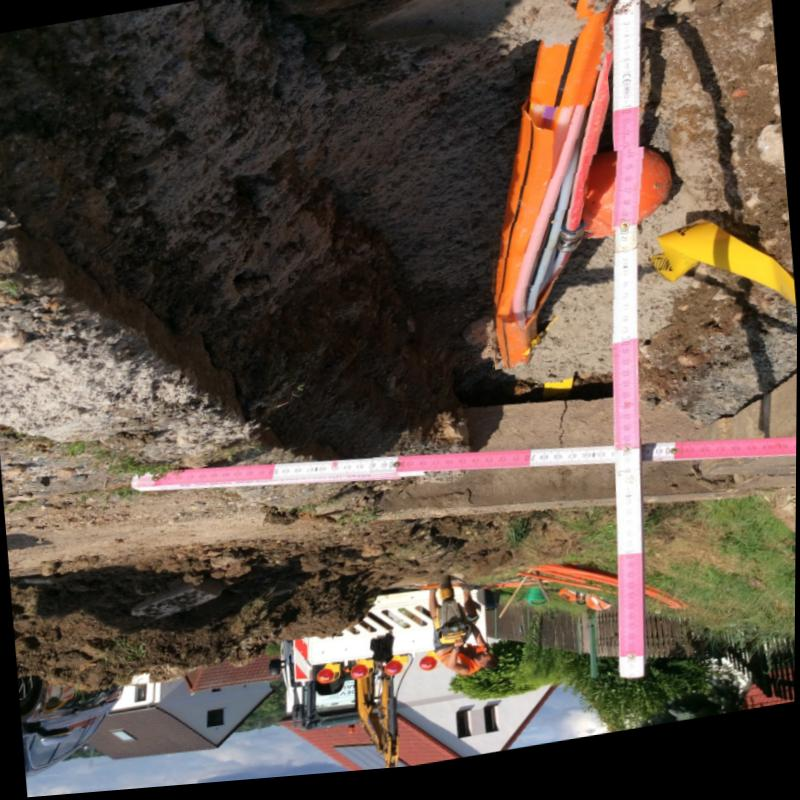Kugelmarker: (585, 159, 672, 241)
Orang-Speednetrohrchen: (492, 25, 609, 377)
